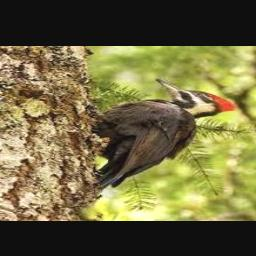Woodpecker: (90, 78, 236, 190)
